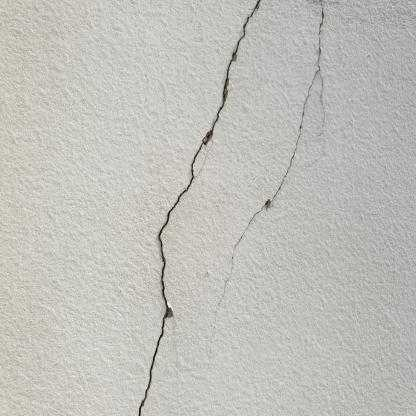crack: (138, 0, 260, 415), (215, 0, 325, 317)
